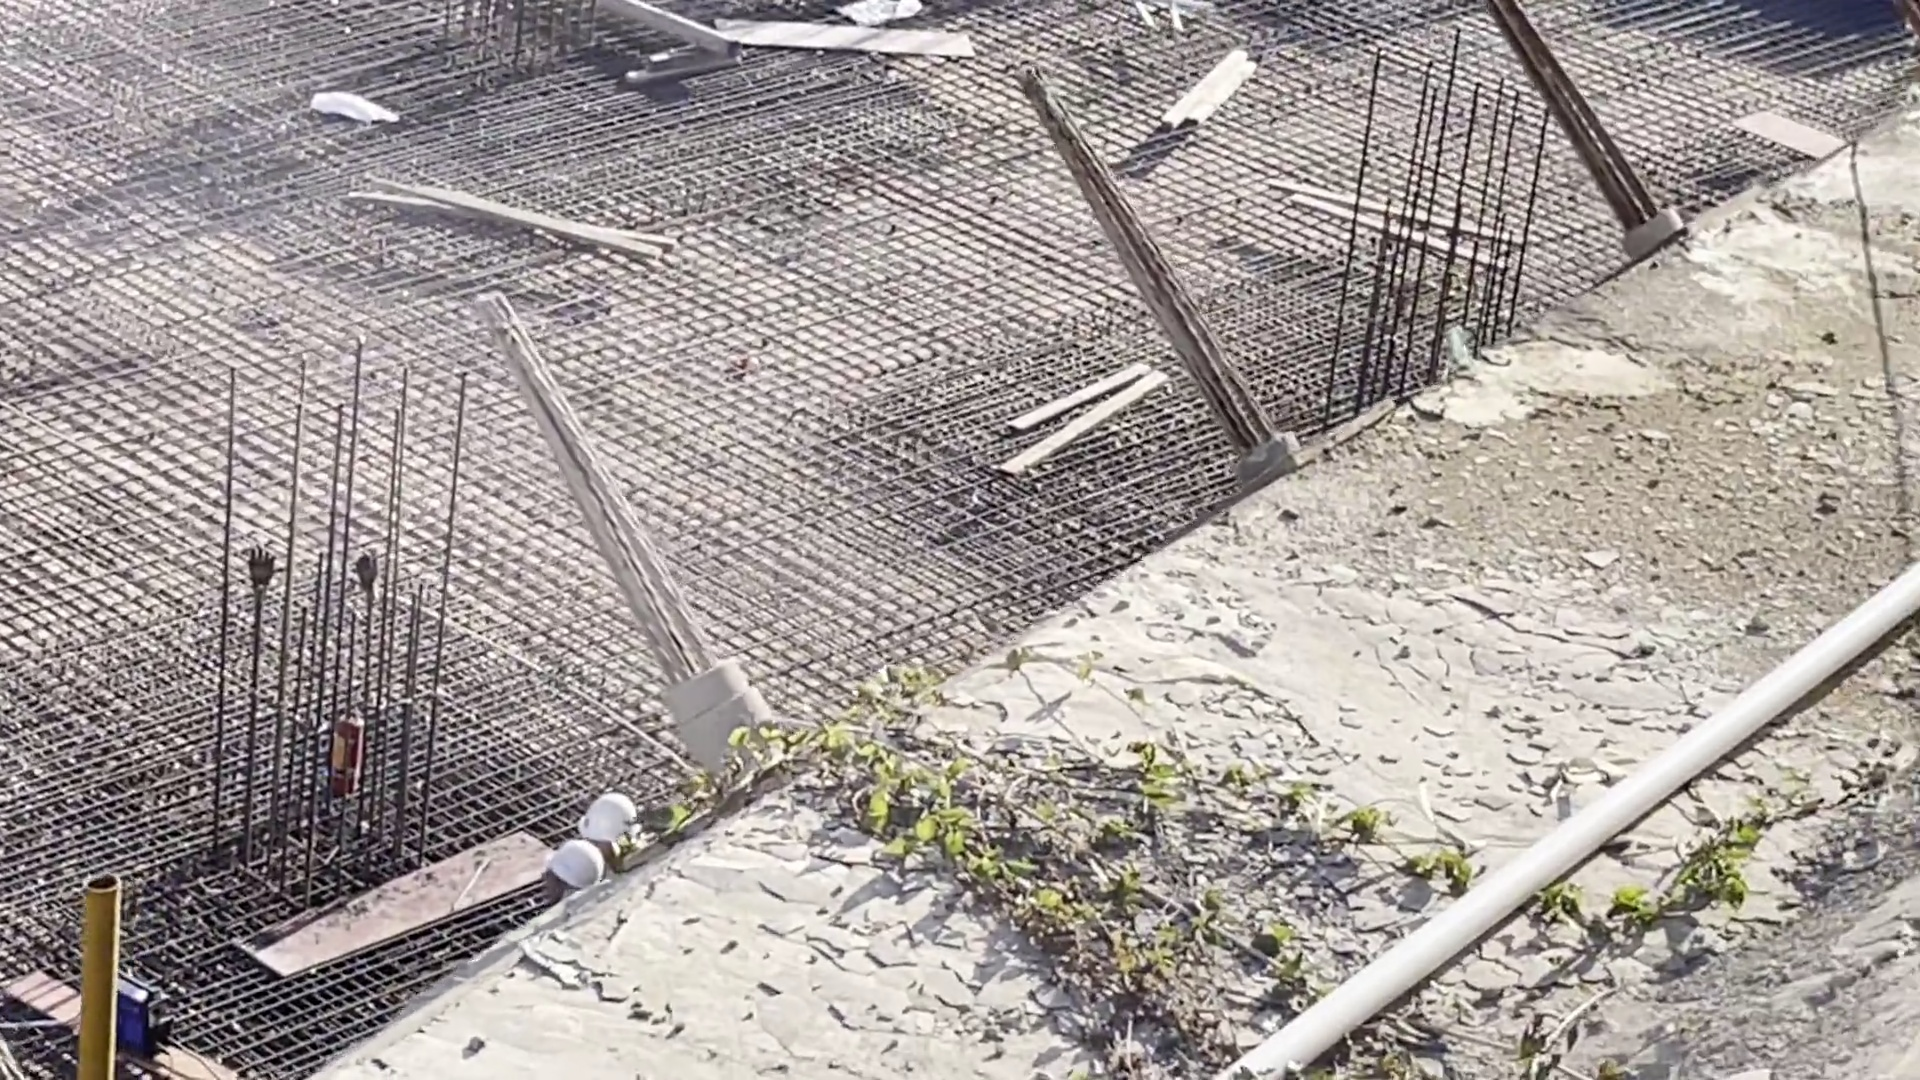helmet: (578, 793, 640, 837), (559, 841, 601, 884)
